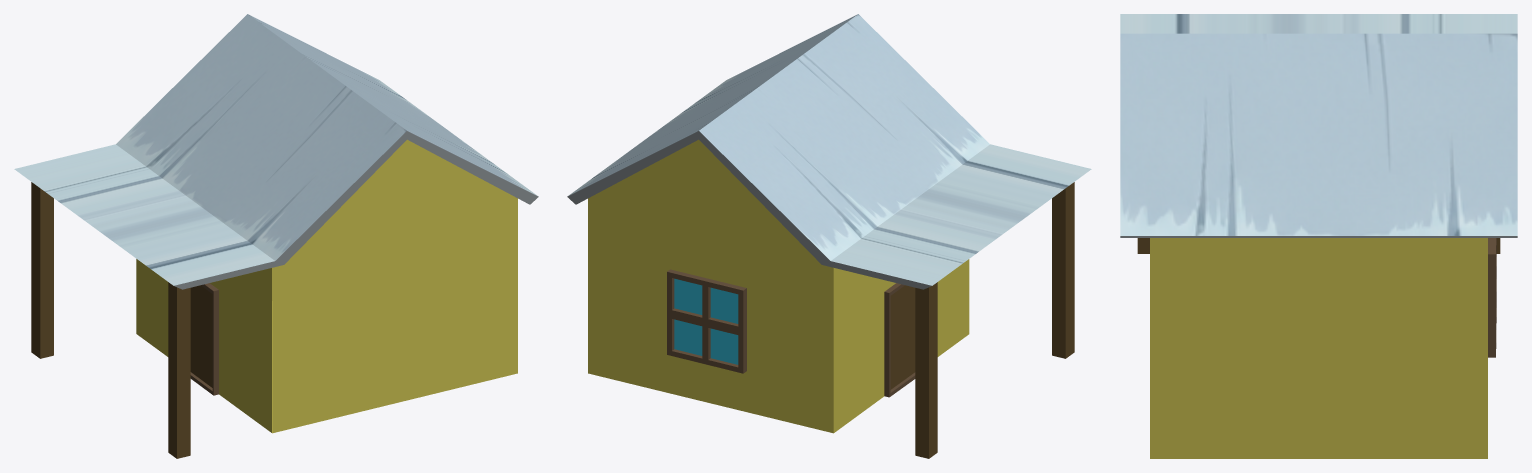
Rendered from CasaColor07.glb.
The picture shows the model from 3 angles, left to right: view 1: azimuth 30°, elevation 25°; view 2: azimuth 150°, elevation 25°; view 3: azimuth 270°, elevation 25°; orthographic projection. The views are drawn at different scales.
Parts seen in each view (by area): view 1: techo, estructura.003, estructura.001, Cube, puerta; view 2: techo, estructura.003, estructura.001, Cube, ventana, puerta; view 3: techo, estructura.003, ventana.
Part boxes in pixels (x1,y1,x2,y2): techo: [14, 14, 538, 289]; estructura.003: [272, 139, 517, 433]; estructura.001: [136, 259, 271, 432]; Cube: [31, 182, 190, 458]; puerta: [190, 283, 218, 395]; techo: [567, 14, 1091, 289]; estructura.003: [588, 139, 833, 433]; estructura.001: [833, 259, 969, 432]; Cube: [915, 182, 1074, 458]; ventana: [667, 269, 746, 373]; puerta: [884, 283, 915, 397]; techo: [1120, 14, 1517, 237]; estructura.003: [1150, 238, 1487, 458]; ventana: [1488, 238, 1496, 357].
Bounding box in the file's own units: 6.81 × 5.02 × 5.16.
Materials: 6 (1 with a texture image).
